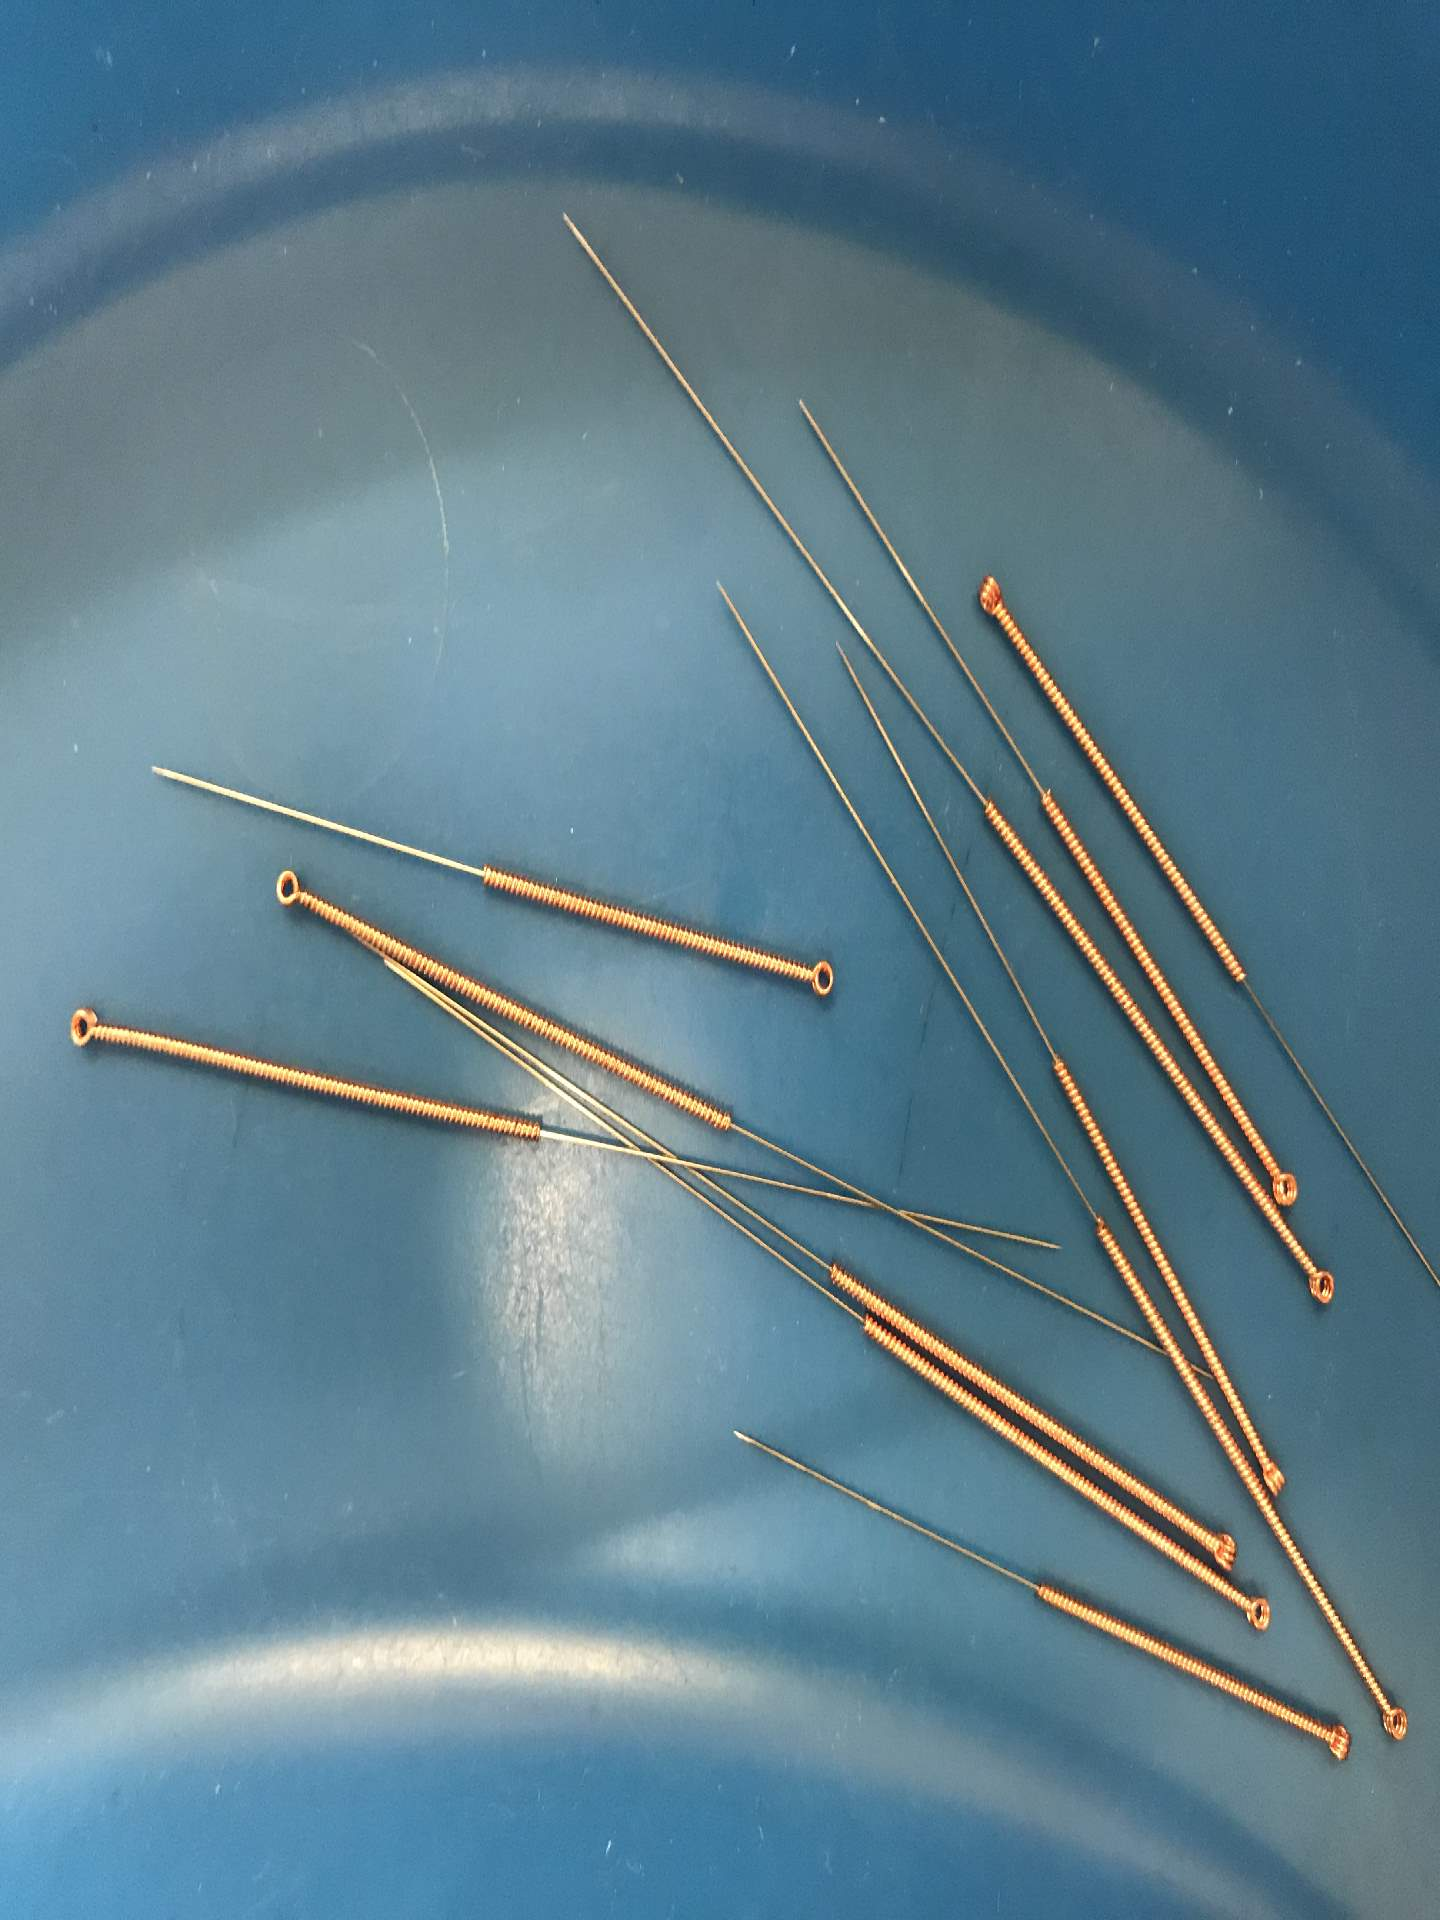needle: (961, 558, 1019, 638), (787, 943, 847, 1013), (53, 993, 113, 1063), (1308, 1707, 1361, 1776), (260, 862, 319, 924), (1369, 1687, 1420, 1757), (1295, 1246, 1345, 1312), (1230, 1584, 1284, 1640), (1201, 1516, 1246, 1575), (1268, 1146, 1305, 1209), (1258, 1435, 1292, 1503)
